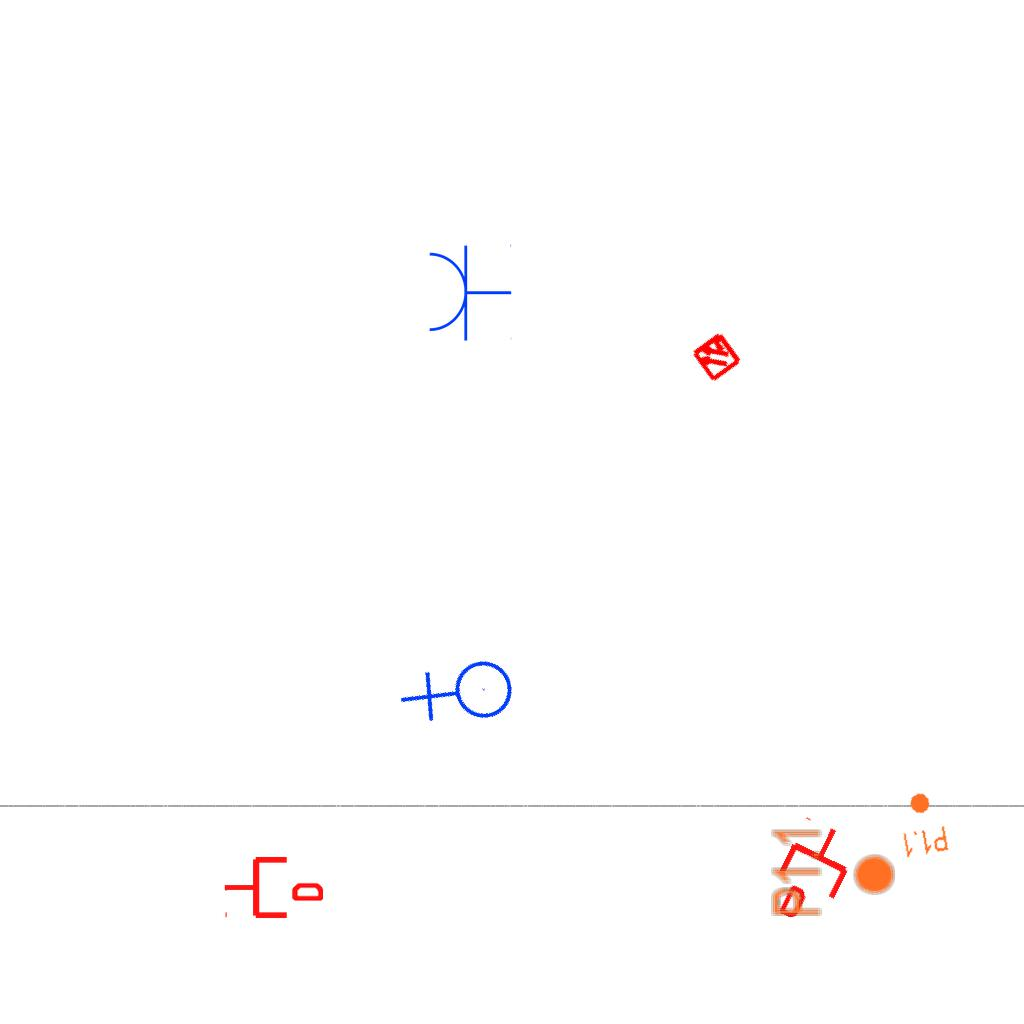Datenanschluss_einfach: (759, 812, 866, 934), (223, 853, 323, 922)
Downlight_LED_Einbauleuchten_Flur: (769, 825, 897, 918), (893, 788, 951, 860)
Elektroanschluss_allgemein_230V_Geraeteanschlussdose_230V: (395, 628, 532, 764)
OT_Multisensormelder_(Kombination_RMO_WMD): (676, 316, 756, 396)
Schukosteckdose_einfach: (425, 242, 512, 342)
